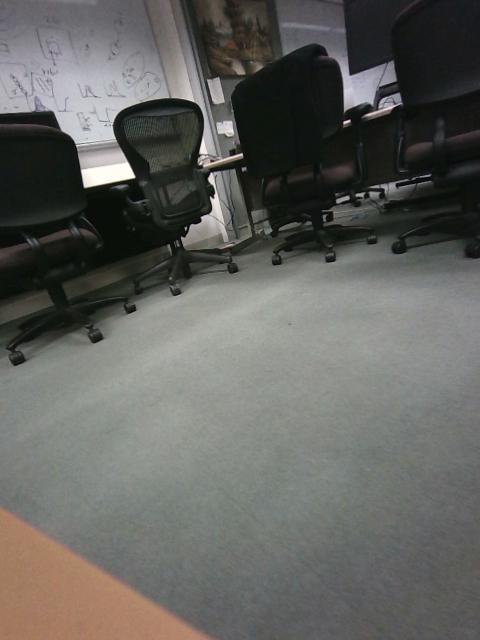block: (332, 420, 434, 540)
